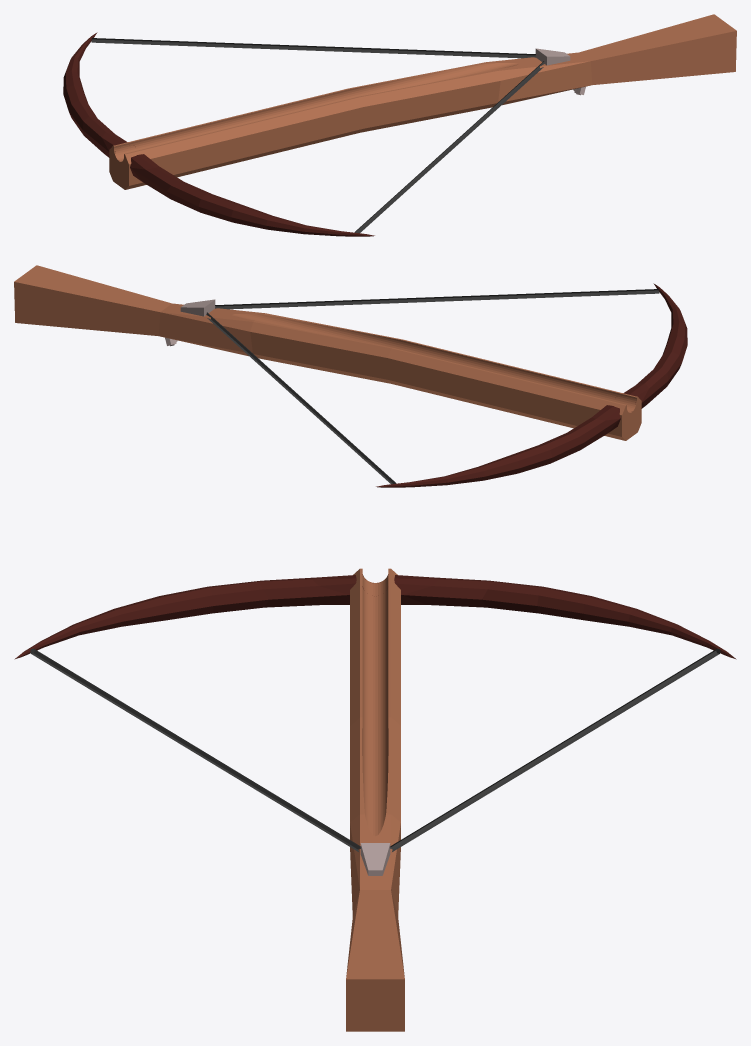
File: ballesta.fbx
The picture shows the model from 3 angles, top to bottom: view 1: azimuth 30°, elevation 25°; view 2: azimuth 150°, elevation 25°; view 3: azimuth 270°, elevation 25°; orthographic projection. The views are drawn at different scales.
Visible parts, largest first — view 1: Cube.002; view 2: Cube.002; view 3: Cube.002.
Boxes of the visible parts, x1,y1,x2,y2 form: Cube.002: (63,14,736,236); Cube.002: (14,265,687,487); Cube.002: (14,568,736,1031).
Size of the model in its own units: 446 by 36.6 by 302.
